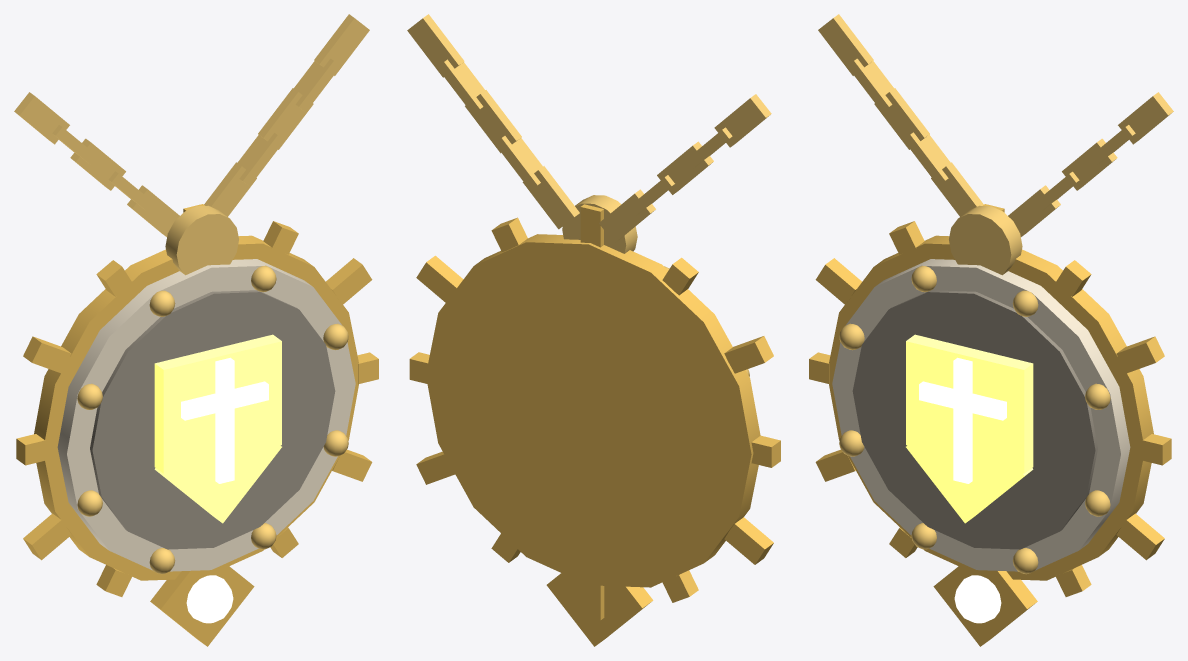
3 views of the same model, side by side, from view 1: azimuth 30°, elevation 25°; view 2: azimuth 150°, elevation 25°; view 3: azimuth 330°, elevation 25° (orthographic). The views are drawn at different scales.
Visible parts, largest first — view 1: seal-of-the-bulwark; view 2: seal-of-the-bulwark; view 3: seal-of-the-bulwark.
Boxes of the visible parts, <box> form: seal-of-the-bulwark: <box>14,14,378,646</box>; seal-of-the-bulwark: <box>407,14,780,646</box>; seal-of-the-bulwark: <box>809,14,1173,646</box>.
Bounding box in the file's own units: 0.2344 × 0.3677 × 0.0472.
